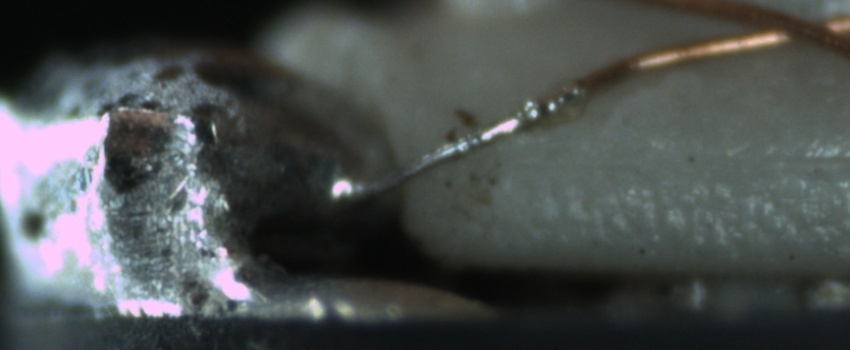CL: (731, 5, 850, 55)
DL: (526, 131, 849, 192)
TS: (357, 87, 581, 200)
TTCW: (317, 53, 644, 208)
